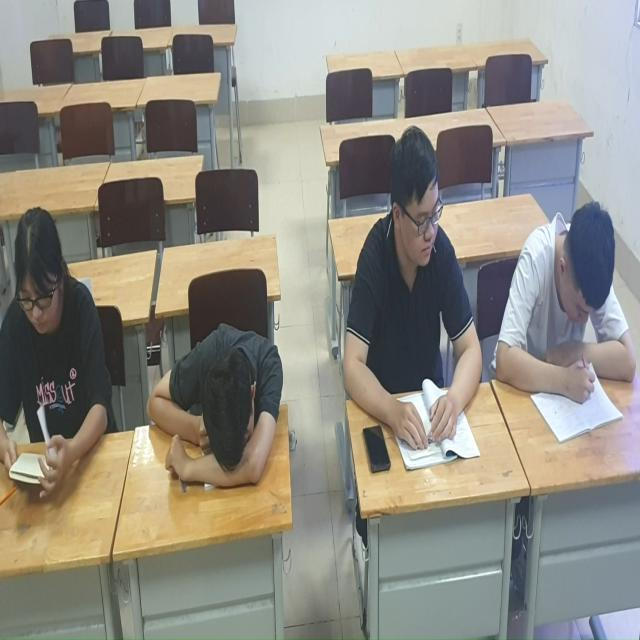read: (356, 109, 488, 469), (486, 156, 635, 438), (1, 204, 128, 502)
sleep: (137, 250, 287, 480)
